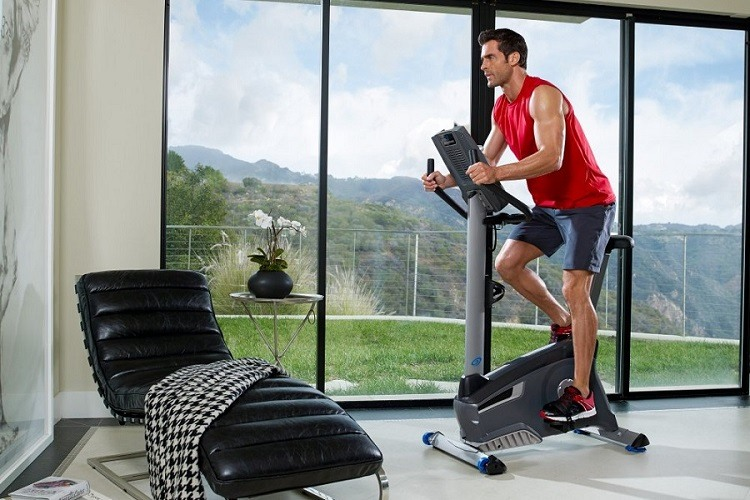gym_bike: (408, 122, 663, 482)
